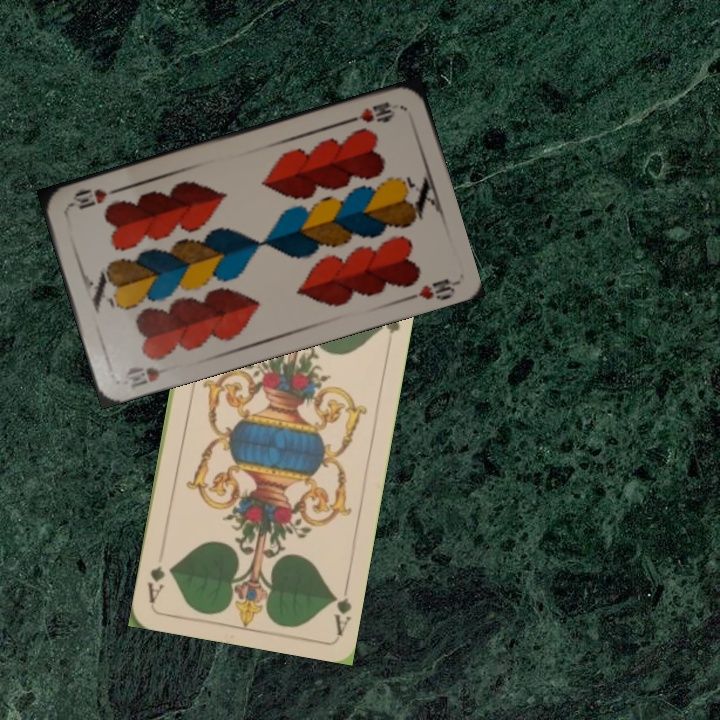GA: (327, 578, 354, 637)
H10: (344, 97, 398, 125), (120, 362, 172, 391)
